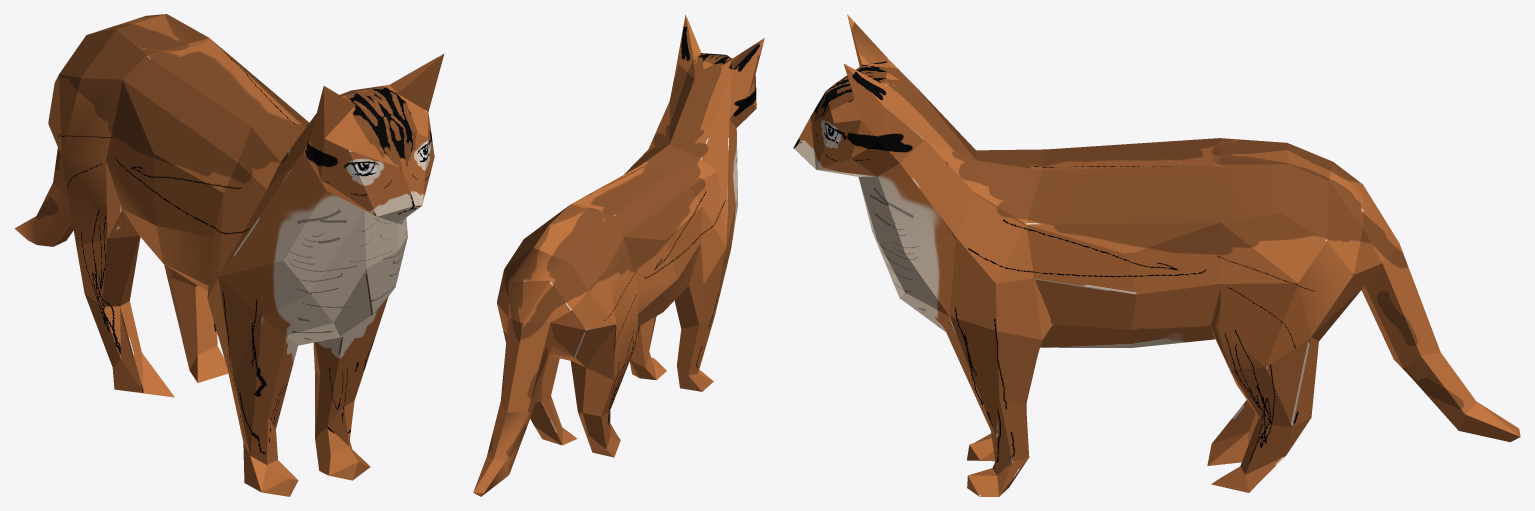
Rendered from cat_biscuit.glb.
3 renders of one model, left to right at view 1: azimuth 30°, elevation 25°; view 2: azimuth 150°, elevation 25°; view 3: azimuth 270°, elevation 25°, orthographic. The views are drawn at different scales.
Parts seen in each view (by area): view 1: SM_LowpolyAnimal_Cat_LowpolyAnimal_M_0; view 2: SM_LowpolyAnimal_Cat_LowpolyAnimal_M_0; view 3: SM_LowpolyAnimal_Cat_LowpolyAnimal_M_0.
Part boxes in pixels (bbox=[...]): SM_LowpolyAnimal_Cat_LowpolyAnimal_M_0: bbox=[14, 14, 444, 496]; SM_LowpolyAnimal_Cat_LowpolyAnimal_M_0: bbox=[473, 14, 764, 496]; SM_LowpolyAnimal_Cat_LowpolyAnimal_M_0: bbox=[793, 14, 1520, 496].
Bounding box in the file's own units: 0.252 × 0.6813 × 1.03.
Materials: 1 (1 with a texture image).
